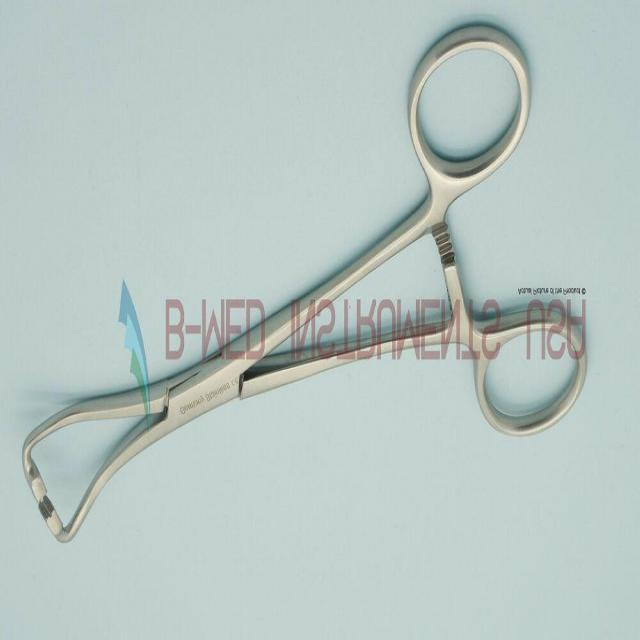Towel_clip: (16, 6, 592, 554)
